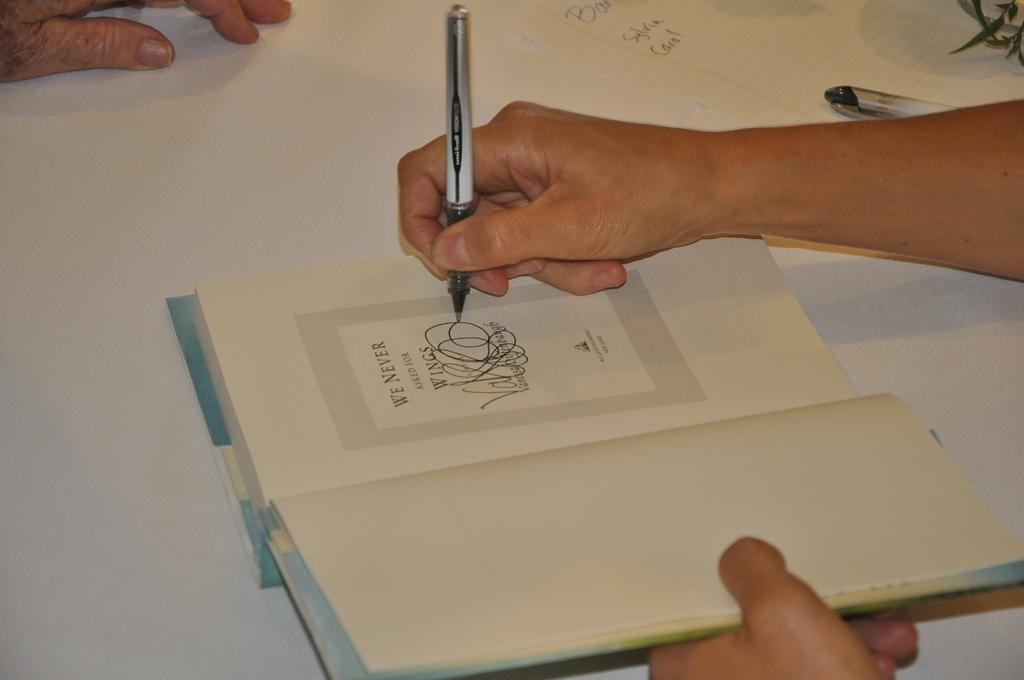pen: (435, 1, 476, 318)
